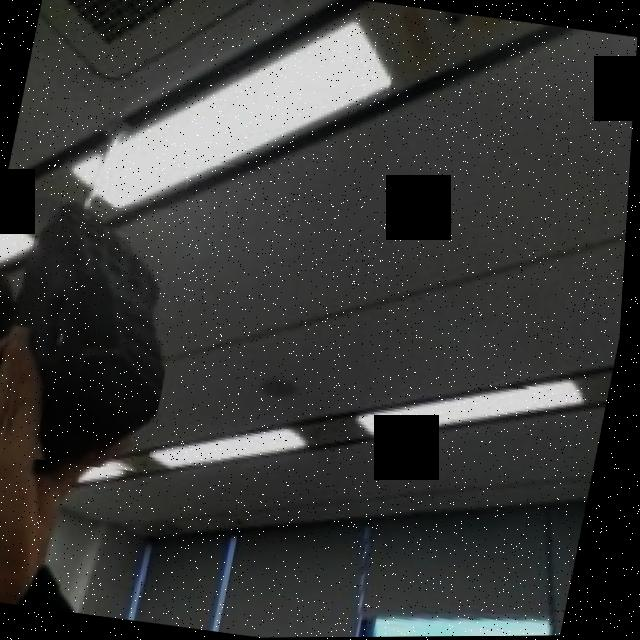shoe: (0, 192, 201, 476)
